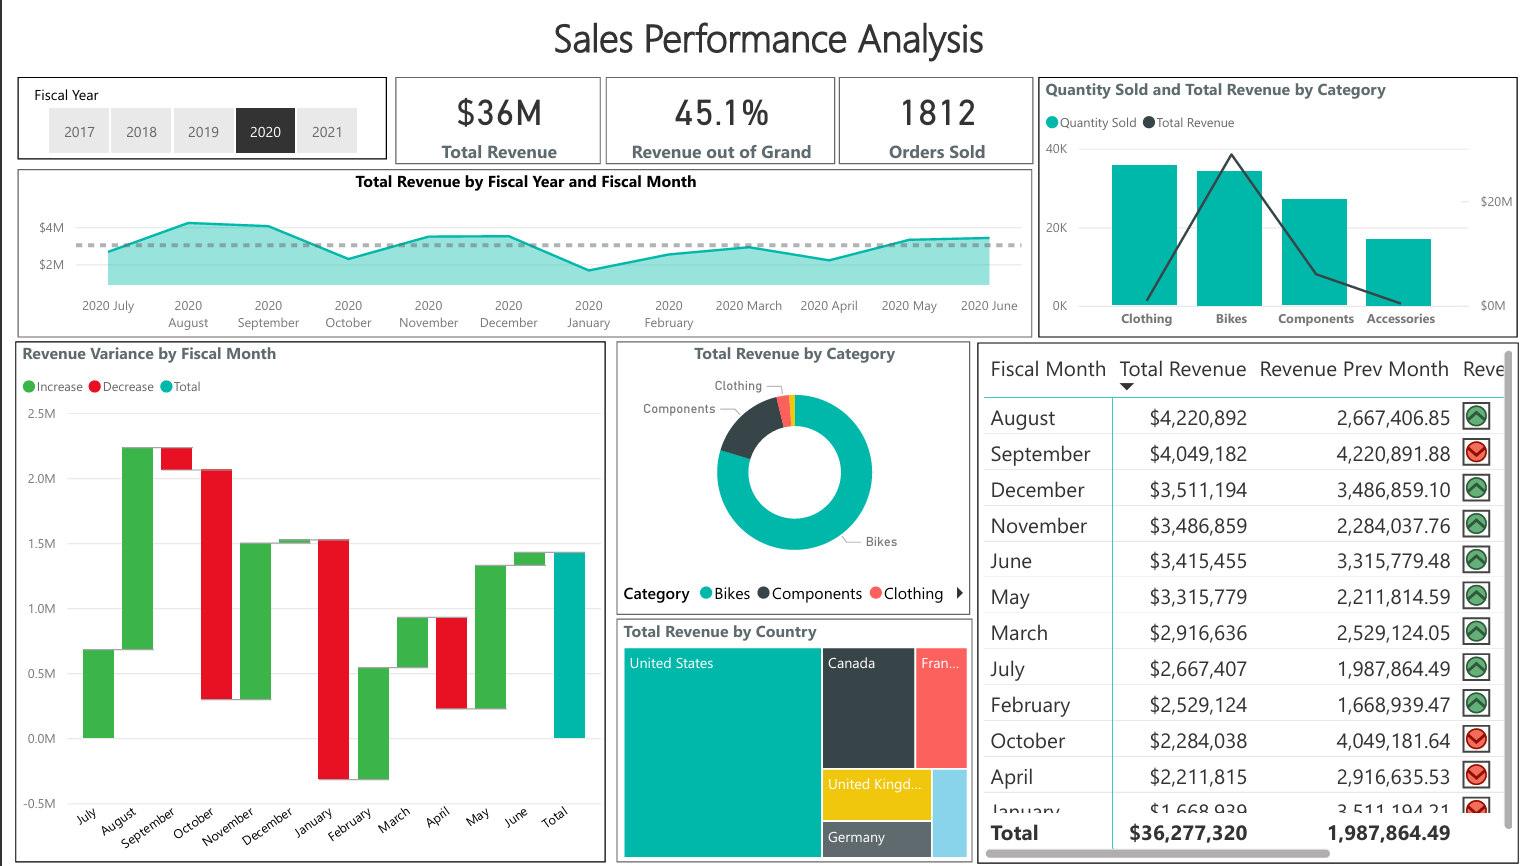

This screenshot's page, from the dashboard's own definition file:
{"tool":"powerbi","page":{"name":"Performance Analysis","canvas":[1280,720],"ordinal":0},"visuals":[{"type":"textbox","box":[15.8,0,1252,80.4],"z":0},{"type":"card","fields":{"Values":["Order_Items.Total Revenue"]},"box":[305.3,93.9,264.8,86.5],"z":2000},{"type":"card","fields":{"Values":["Order_Items.Revenue out of Grand"]},"box":[16,93.9,264.8,85.4],"z":3000},{"type":"card","fields":{"Values":["Order_Items.Orders Sold"]},"box":[593.6,93.9,247.7,85.4],"z":4000},{"type":"slicer","fields":{"Values":["Calendar table.Fiscal Year"]},"box":[862.3,93.8,406.8,82.8],"z":5000},{"type":"areaChart","fields":{"Category":["Calendar table.Fiscal Year Hierarchy.Fiscal Year","Calendar table.Fiscal Year Hierarchy.Fiscal Month"],"Y":["Order_Items.Total Revenue"]},"box":[15.8,190.1,1252.8,169.9],"z":6000},{"type":"donutChart","fields":{"Category":["Products.Category"],"Y":["Order_Items.Total Revenue"]},"box":[874.1,373,394.6,332.6],"z":7000},{"type":"map","fields":{"Size":["Order_Items.Total Revenue"],"Category":["Customer.Full Address"],"Series":["Customer.Country"]},"box":[15.8,373,470.9,332.6],"z":8000},{"type":"treemap","fields":{"Group":["Customer.Country"],"Values":["Order_Items.Total Revenue"]},"box":[496.8,373,365.8,332.6],"z":9000}]}

Visuals, with their boxes in screenshot pixels (x1, y1, x2, y2), scaled from the page's 1280x720 canvas onto the 1530x866 screenshot:
textbox: {"left": 19, "top": 0, "right": 1515, "bottom": 97}
card - Order_Items.Total Revenue: {"left": 365, "top": 113, "right": 681, "bottom": 217}
card - Order_Items.Revenue out of Grand: {"left": 19, "top": 113, "right": 336, "bottom": 216}
card - Order_Items.Orders Sold: {"left": 710, "top": 113, "right": 1006, "bottom": 216}
slicer - Calendar table.Fiscal Year: {"left": 1031, "top": 113, "right": 1517, "bottom": 212}
areaChart - Calendar table.Fiscal Year Hierarchy.Fiscal Year x Calendar table.Fiscal Year Hierarchy.Fiscal Month: {"left": 19, "top": 229, "right": 1516, "bottom": 433}
donutChart - Products.Category x Order_Items.Total Revenue: {"left": 1045, "top": 449, "right": 1516, "bottom": 849}
map - Order_Items.Total Revenue x Customer.Full Address: {"left": 19, "top": 449, "right": 582, "bottom": 849}
treemap - Customer.Country x Order_Items.Total Revenue: {"left": 594, "top": 449, "right": 1031, "bottom": 849}
